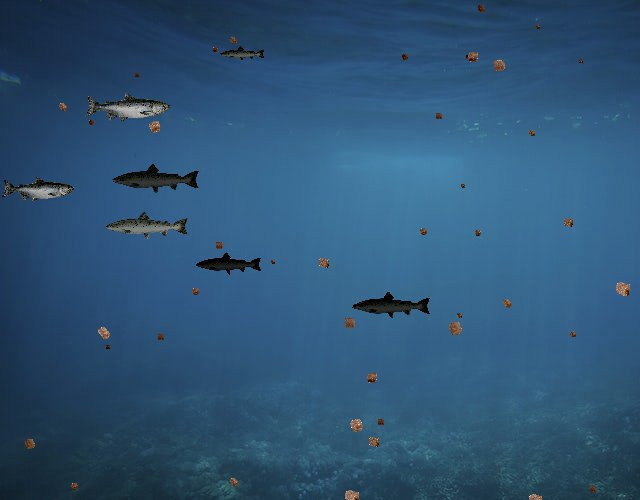Fish: (111, 163, 201, 195), (104, 210, 190, 241), (84, 92, 170, 123), (351, 291, 432, 320), (2, 176, 75, 202), (195, 252, 263, 276), (220, 45, 267, 62)
Pellet: (487, 54, 511, 78), (312, 252, 335, 275), (497, 293, 517, 313), (53, 98, 72, 117), (225, 33, 241, 49), (373, 415, 388, 429), (458, 180, 468, 190)
